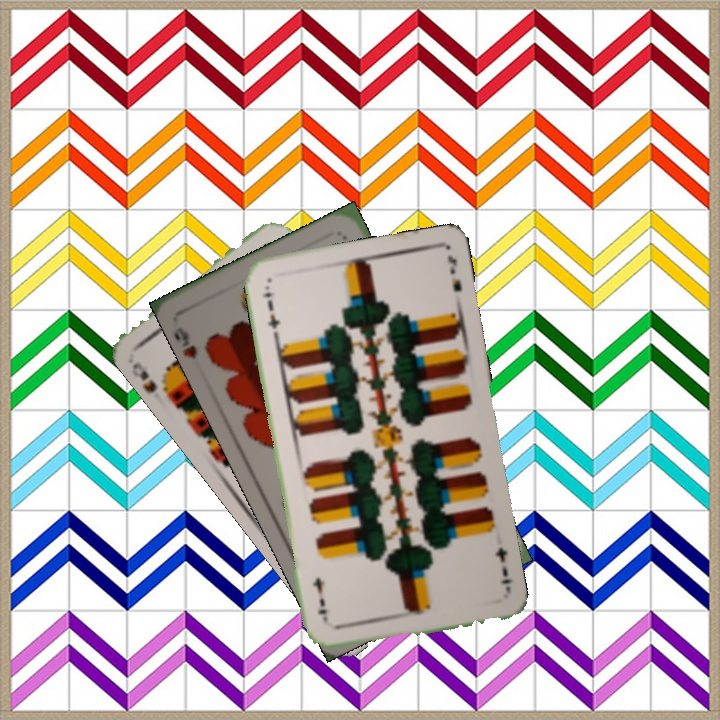E7: (258, 281, 282, 339), (491, 543, 516, 587)
H9: (171, 323, 200, 362)
S9: (128, 358, 175, 400)
